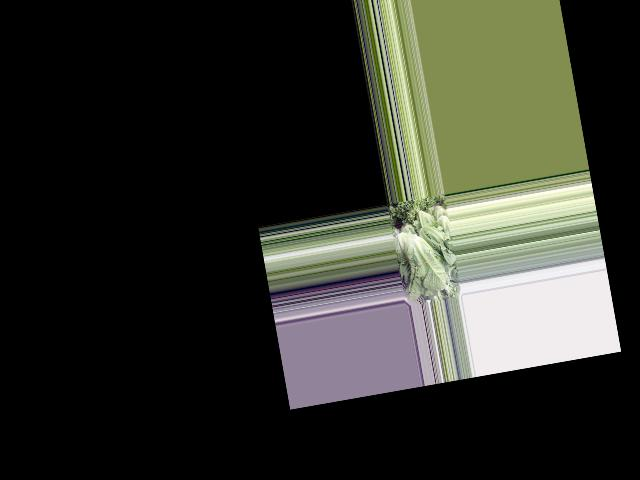lettuce: (418, 220, 455, 270)
